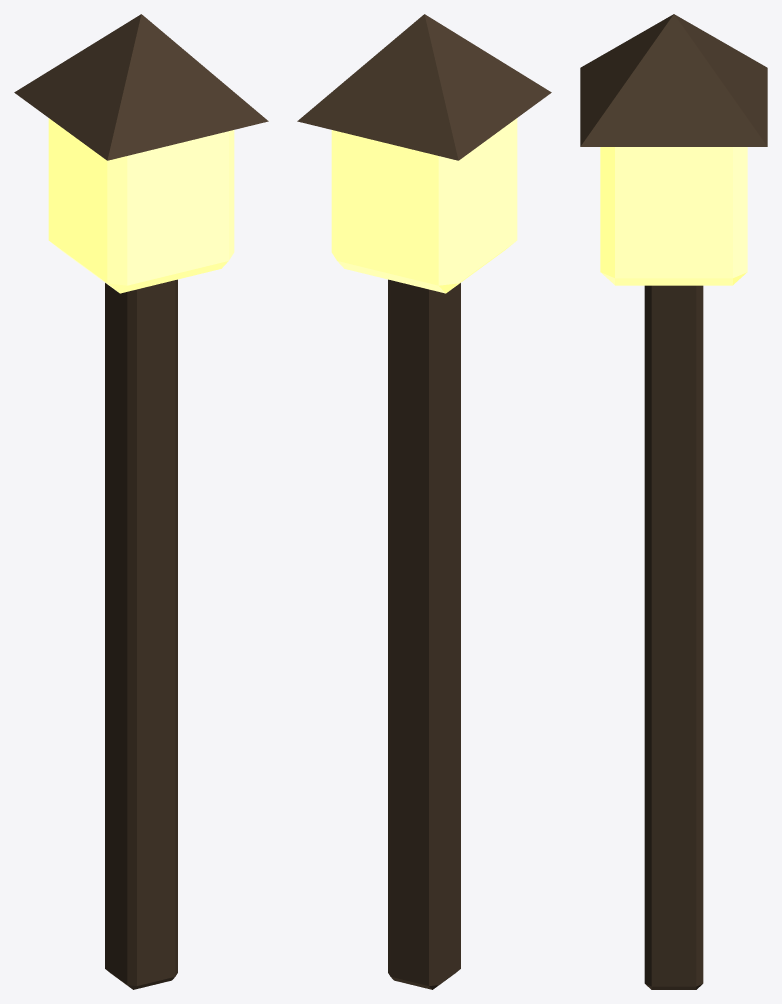
File: lamp.glb
3 views of the same model, side by side, from view 1: azimuth 30°, elevation 25°; view 2: azimuth 150°, elevation 25°; view 3: azimuth 270°, elevation 25° (orthographic).
Parts seen in each view (by area): view 1: Post, Lantern, Cap; view 2: Post, Lantern, Cap; view 3: Post, Lantern, Cap.
Part boxes in pixels (x1,y1,x2,y2): Post: (105,279,177,989); Lantern: (48,118,234,293); Cap: (14,14,268,160); Post: (388,279,460,989); Lantern: (331,118,517,293); Cap: (297,14,551,160); Post: (644,285,703,989); Lantern: (600,147,747,285); Cap: (580,14,767,146).
Bounding box in the file's own units: 0.2546 × 1.45 × 0.2546.
